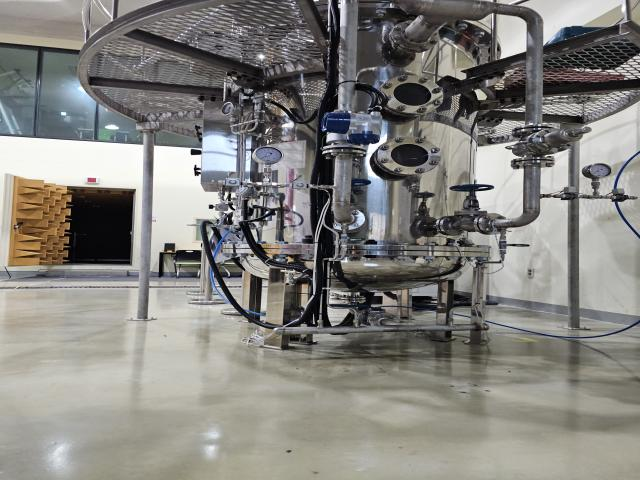Flange: (375, 74, 445, 116), (373, 135, 442, 177)
Flush Ring: (389, 20, 440, 52), (327, 207, 368, 231), (472, 212, 508, 235), (321, 144, 367, 160), (513, 124, 561, 139), (365, 312, 401, 332), (510, 156, 557, 170), (435, 215, 466, 236)
GasRegulator: (221, 93, 286, 141)
Nuts: (287, 179, 314, 191), (602, 192, 633, 202), (220, 178, 250, 187), (554, 192, 584, 199)
Piston Valve: (450, 183, 495, 216), (350, 177, 371, 208)
Pressure Gage: (251, 146, 285, 185), (582, 162, 613, 197)
